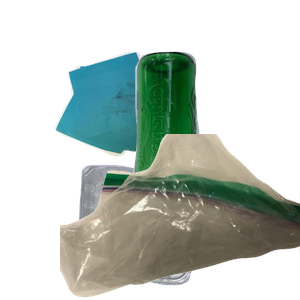glass: (129, 49, 300, 229)
paper: (52, 49, 209, 198)
plastic: (76, 162, 264, 300)
trash: (60, 134, 300, 300)
